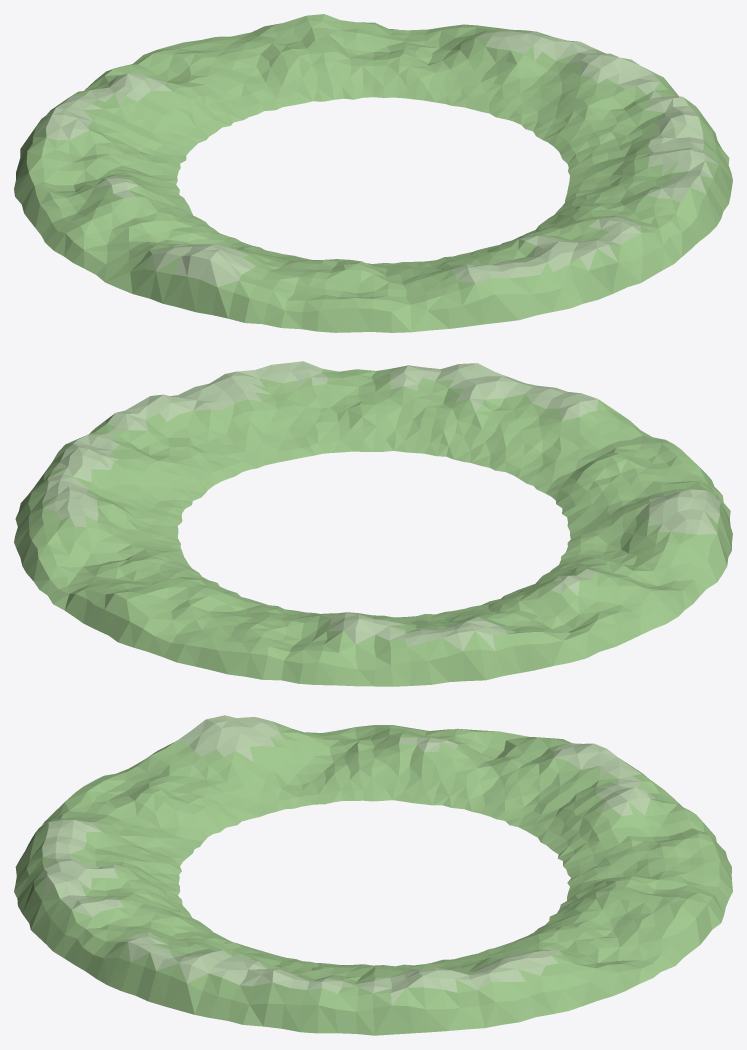
Rendered from Bukit.fbx.
3 renders of one model, top to bottom at view 1: azimuth 30°, elevation 25°; view 2: azimuth 150°, elevation 25°; view 3: azimuth 270°, elevation 25°, orthographic.
Parts seen in each view (by area): view 1: Bukit; view 2: Bukit; view 3: Bukit.
Part boxes in pixels (bbox=[...]): Bukit: bbox=[14, 14, 732, 332]; Bukit: bbox=[14, 361, 732, 686]; Bukit: bbox=[14, 715, 732, 1035].
Bounding box in the file's own units: 1729 × 119 × 1727.
